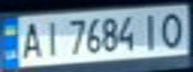4: (115, 12, 142, 52)
6: (84, 15, 106, 55)
7: (63, 16, 87, 56)
8: (100, 14, 121, 53)
A: (15, 19, 45, 61)
I: (136, 10, 163, 51), (39, 17, 63, 57)
O: (157, 8, 190, 50)
